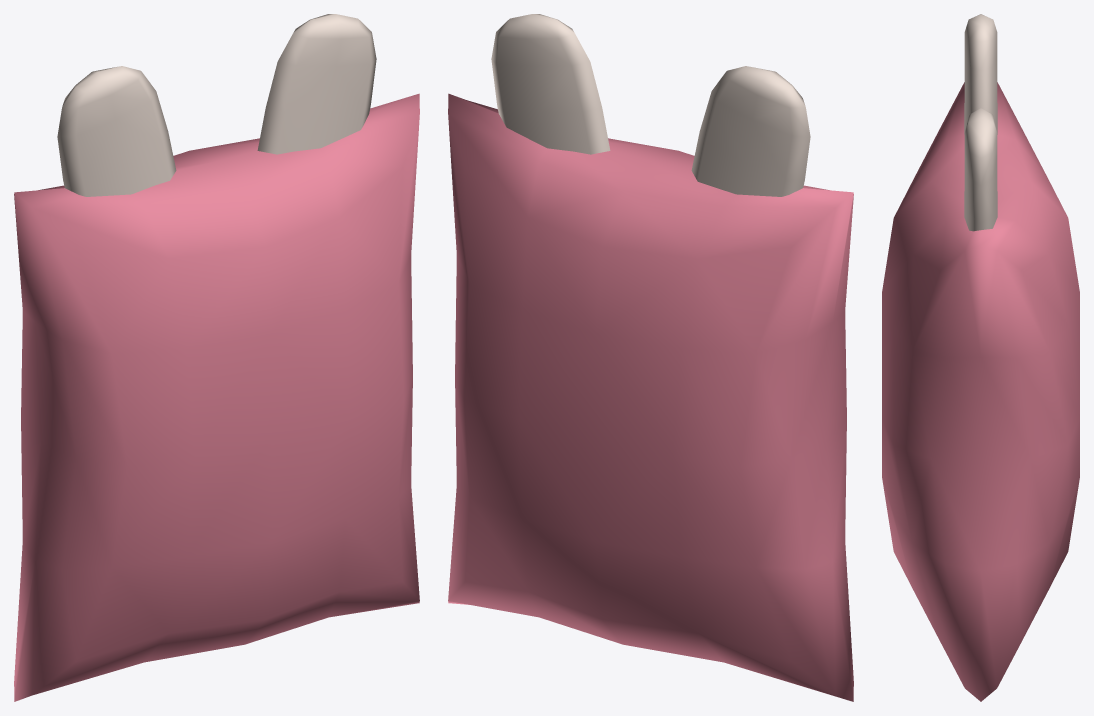
Rendered from Pillow_8.glb.
The picture shows the model from 3 angles, left to right: view 1: azimuth 30°, elevation 25°; view 2: azimuth 150°, elevation 25°; view 3: azimuth 270°, elevation 25°; orthographic projection. The views are drawn at different scales.
Parts seen in each view (by area): view 1: Pillow_8; view 2: Pillow_8; view 3: Pillow_8.
Boxes of the visible parts, <box> form: Pillow_8: <box>14,14,419,701</box>; Pillow_8: <box>448,14,853,701</box>; Pillow_8: <box>882,14,1079,701</box>.
Bounding box in the file's own units: 0.4569 × 0.6573 × 0.2157.
1 material, 1 textured.
